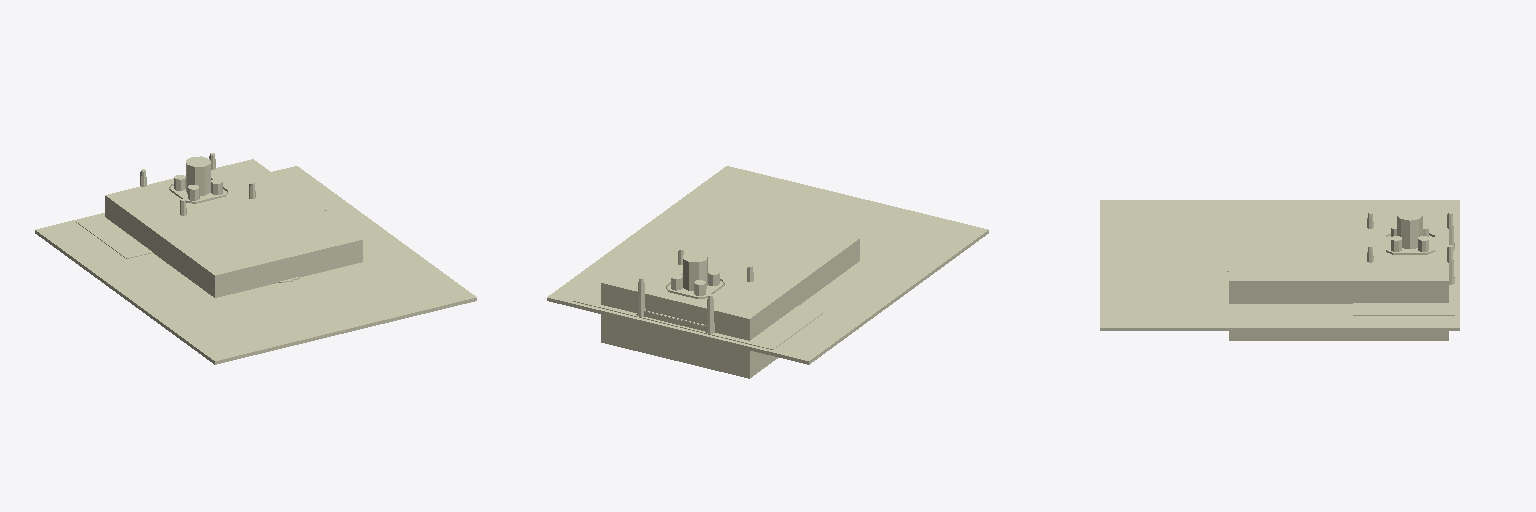
3 views of the same model, side by side, from view 1: azimuth 30°, elevation 25°; view 2: azimuth 150°, elevation 25°; view 3: azimuth 270°, elevation 25° (orthographic).
Visible parts, largest first — view 1: Object02; view 2: Object02; view 3: Object02.
Boxes of the visible parts, <box> form: Object02: <box>35,153,476,364</box>; Object02: <box>547,166,988,378</box>; Object02: <box>1100,200,1459,340</box>.
Bounding box in the file's own units: 948 × 309 × 1127.
Materials: 1 (1 with a texture image).